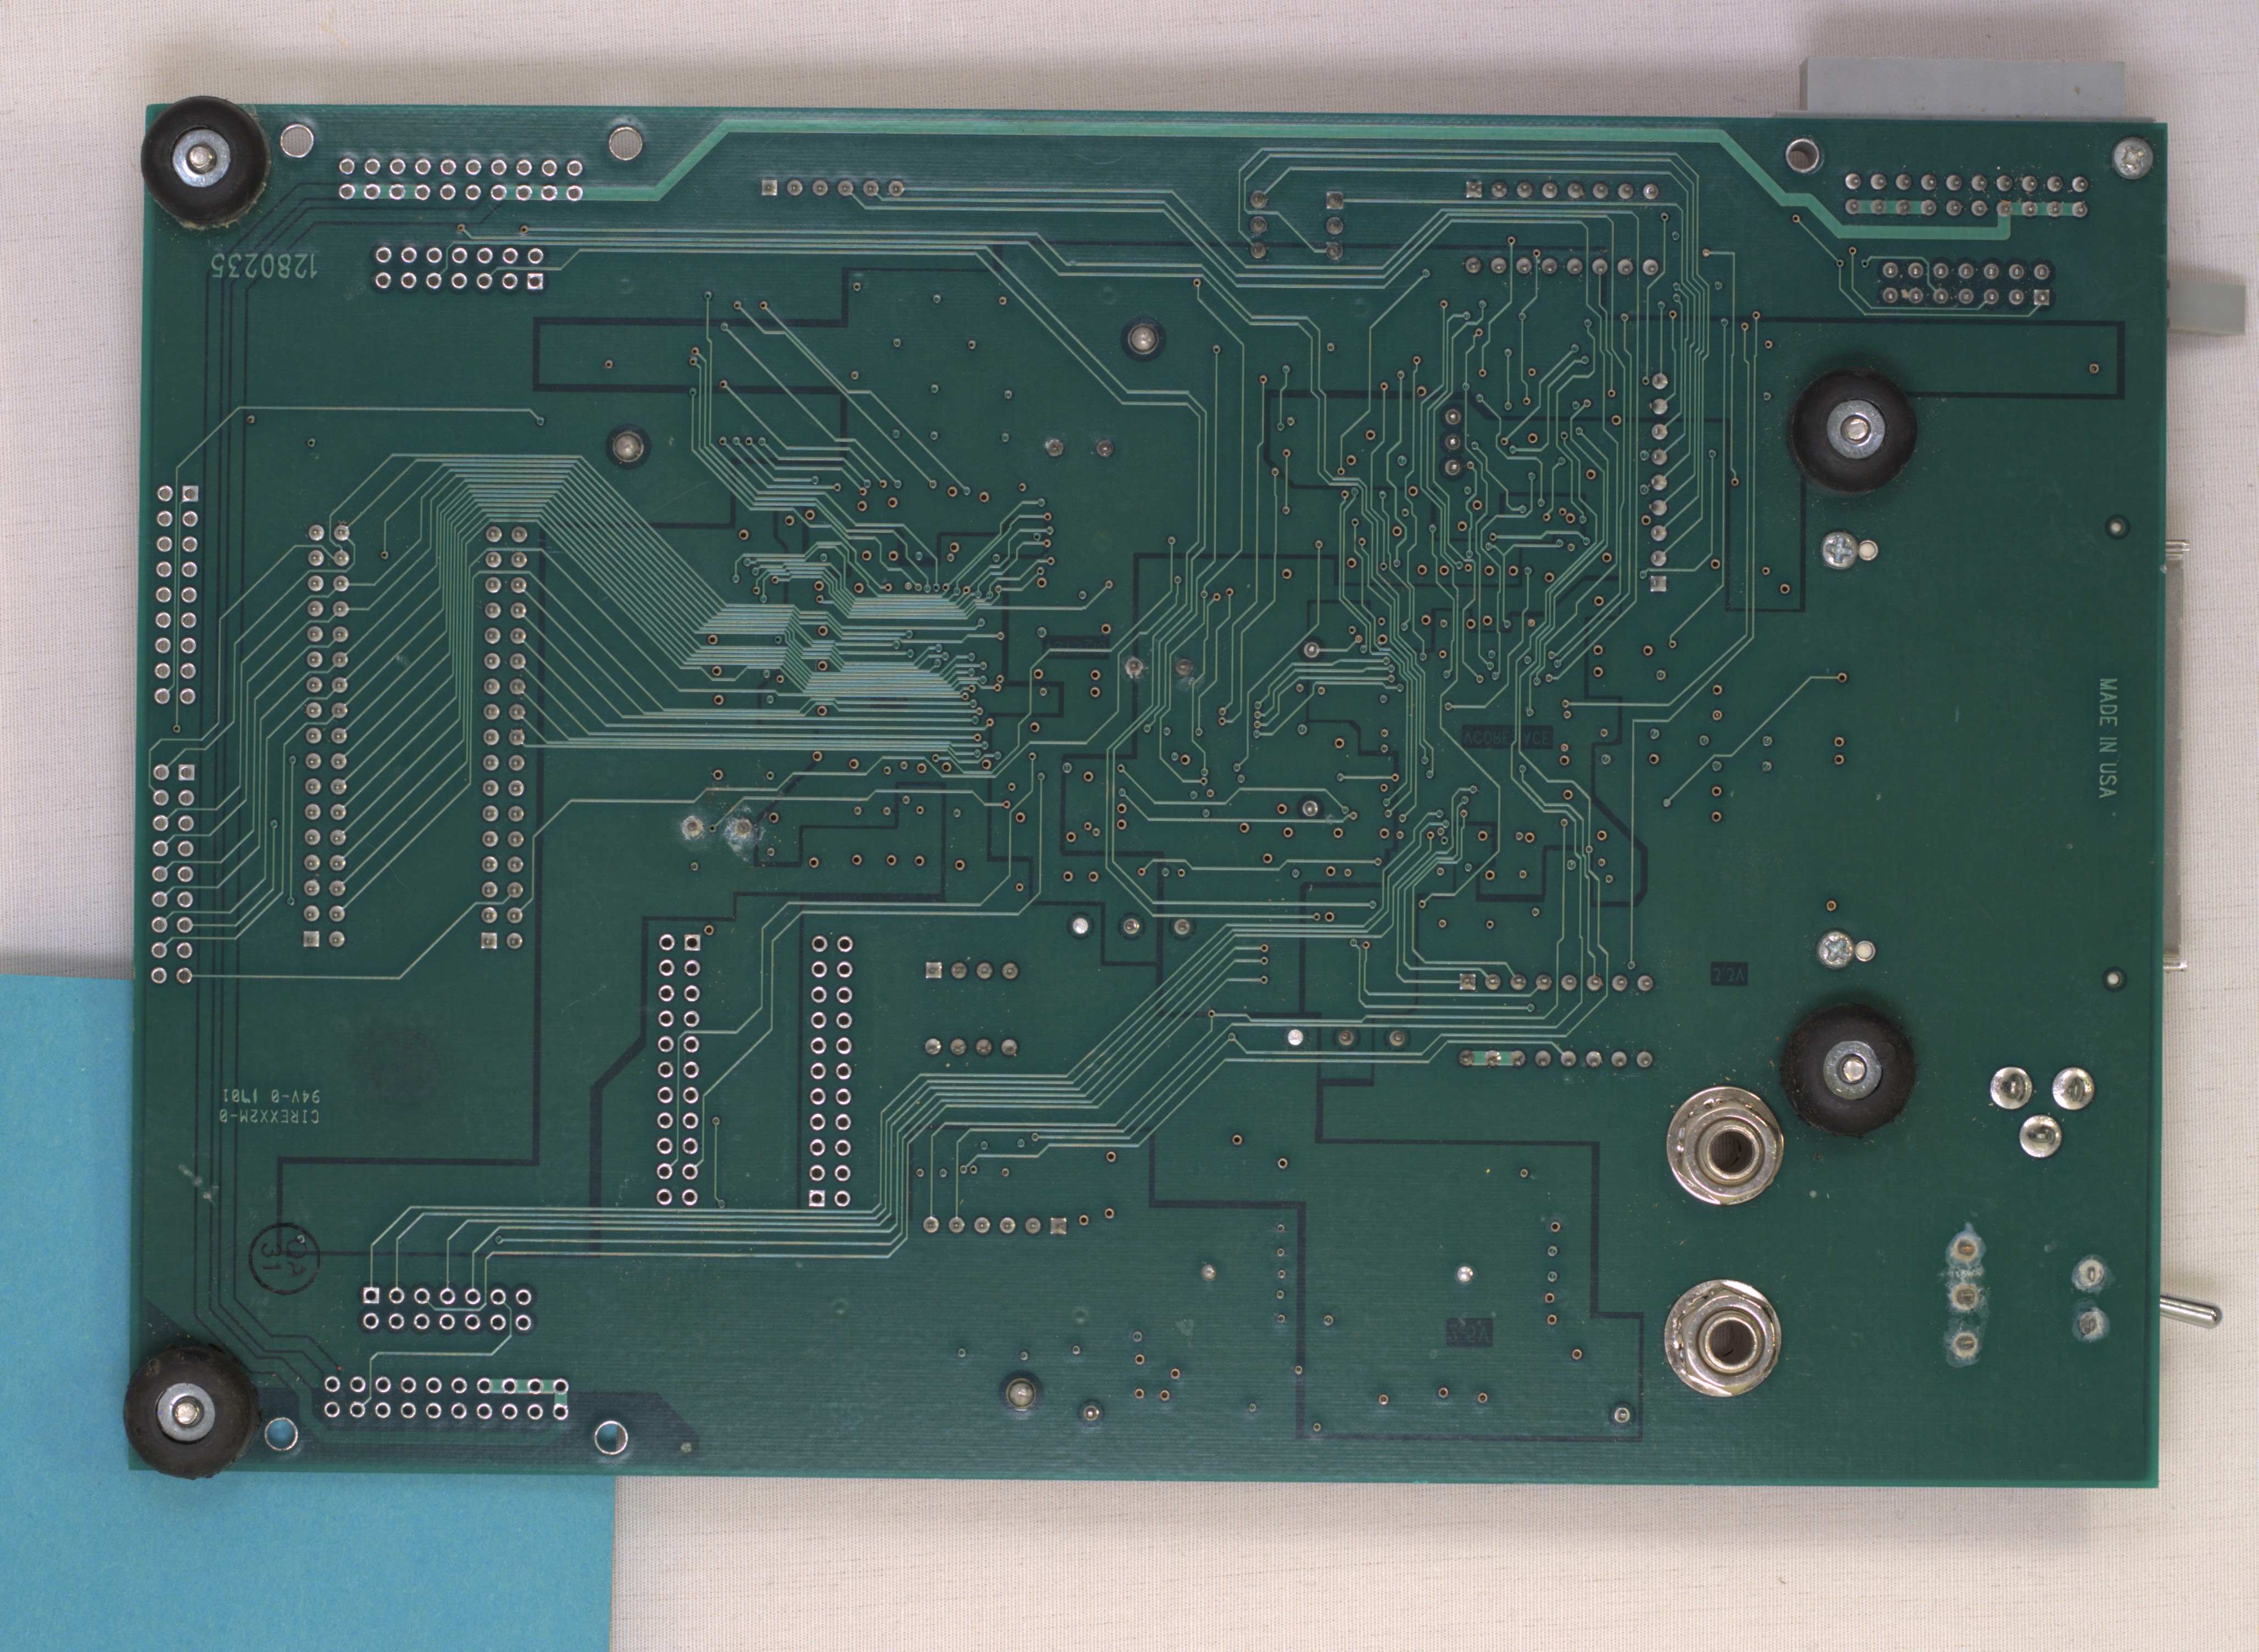connector J1: (316, 1366, 574, 1429)
connector J10: (807, 929, 856, 1215)
connector J12: (1663, 1084, 1787, 1210)
connector J17: (149, 759, 196, 989)
connector J19: (153, 479, 198, 712)
connector J23: (331, 151, 589, 209)
connector J24: (367, 242, 549, 296)
connector J7: (1656, 1277, 1791, 1398)
connector J8: (356, 1278, 538, 1338)
connector unknown: (651, 928, 705, 1210)
pins J27: (756, 177, 907, 202)
pins unknown: (1452, 170, 1666, 291), (1942, 1222, 2112, 1371), (475, 516, 530, 958), (1452, 965, 1663, 1079), (300, 521, 354, 952), (1836, 165, 2098, 228), (1982, 1049, 2105, 1171), (1871, 253, 2059, 316), (917, 958, 1023, 1061), (1642, 365, 1680, 602), (1242, 186, 1352, 265), (1296, 631, 1326, 822), (919, 1208, 1072, 1243), (1061, 910, 1201, 947), (1282, 1022, 1408, 1052), (1119, 647, 1201, 689), (1038, 430, 1119, 468), (679, 810, 758, 845), (1440, 402, 1466, 486), (1072, 1394, 1107, 1429), (1605, 1394, 1635, 1431)
switch unknown: (2149, 1275, 2226, 1340)
text "CIREXX2M-0 94V-0 1701: (210, 1084, 326, 1129)
text "MADE IN USA: (2094, 672, 2120, 805)
text "QA 31: (253, 1229, 314, 1284)
text 1280235: (205, 244, 323, 286)
